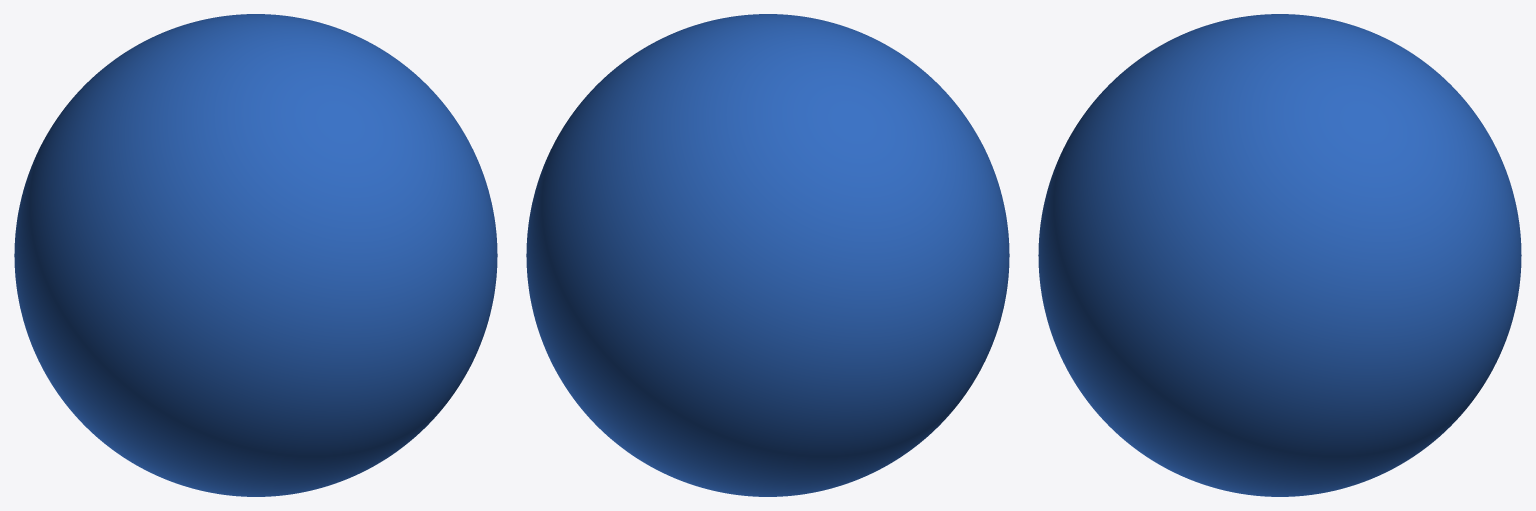
File: earth.obj
3 views of the same model, side by side, from view 1: azimuth 30°, elevation 25°; view 2: azimuth 150°, elevation 25°; view 3: azimuth 270°, elevation 25° (orthographic).
Parts seen in each view (by area): view 1: earth; view 2: earth; view 3: earth.
Boxes of the visible parts, x1,y1,x2,y2 form: earth: [14, 14, 497, 496]; earth: [526, 14, 1009, 496]; earth: [1038, 14, 1521, 496].
Size of the model in its own units: 140 by 140 by 140.
